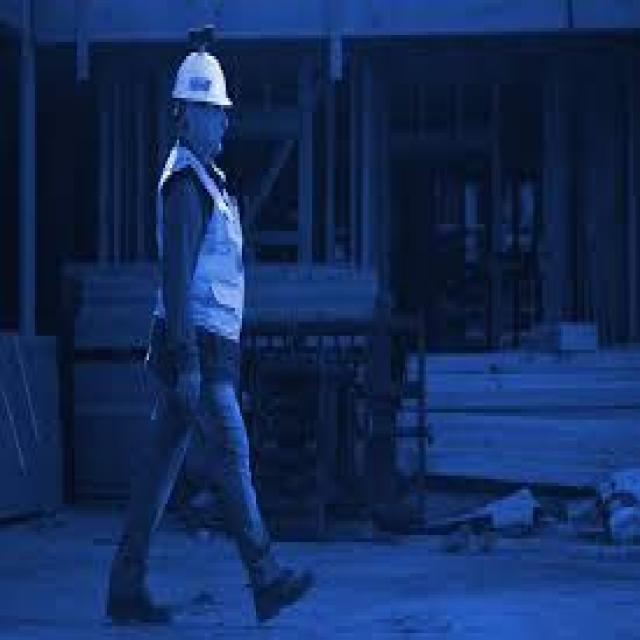reflective_jacket: (147, 147, 245, 356)
safety_helmet: (168, 45, 238, 115)
